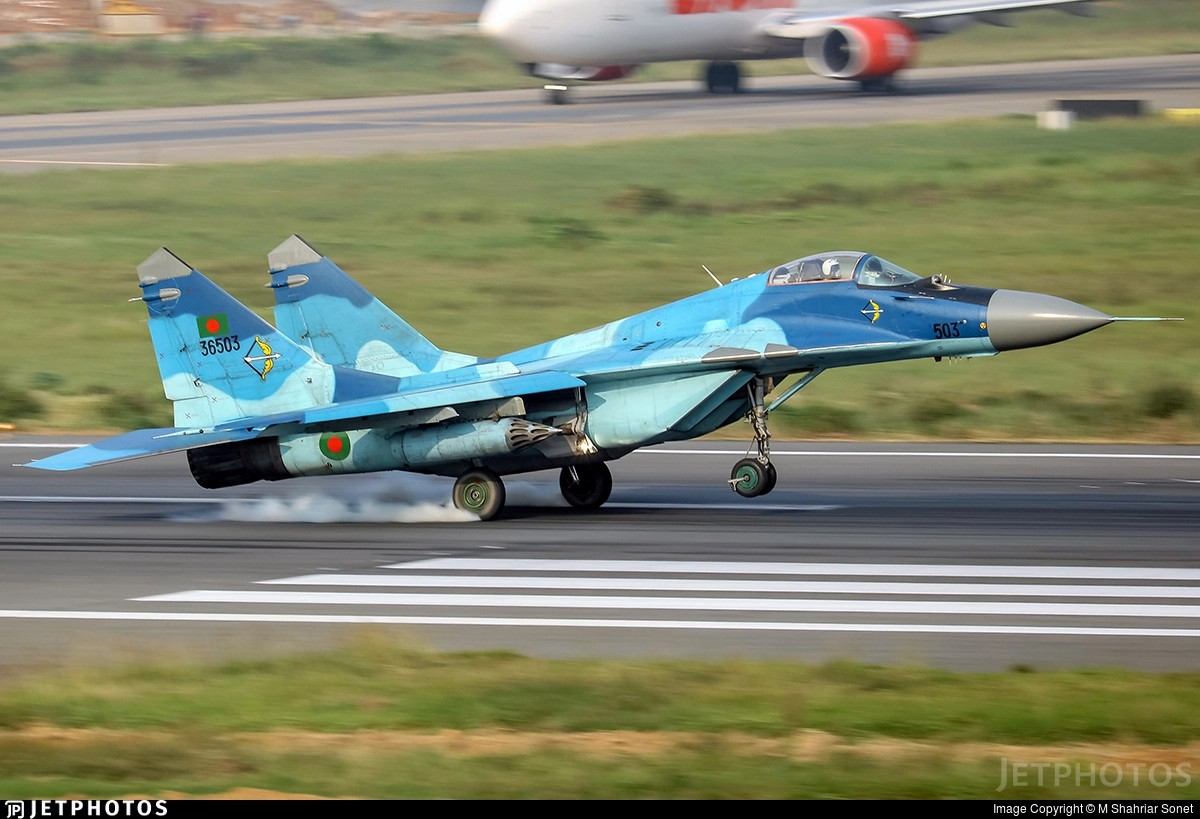Bangladesh: (316, 427, 354, 463), (189, 311, 234, 336)
Mig-29: (54, 173, 1181, 571)
